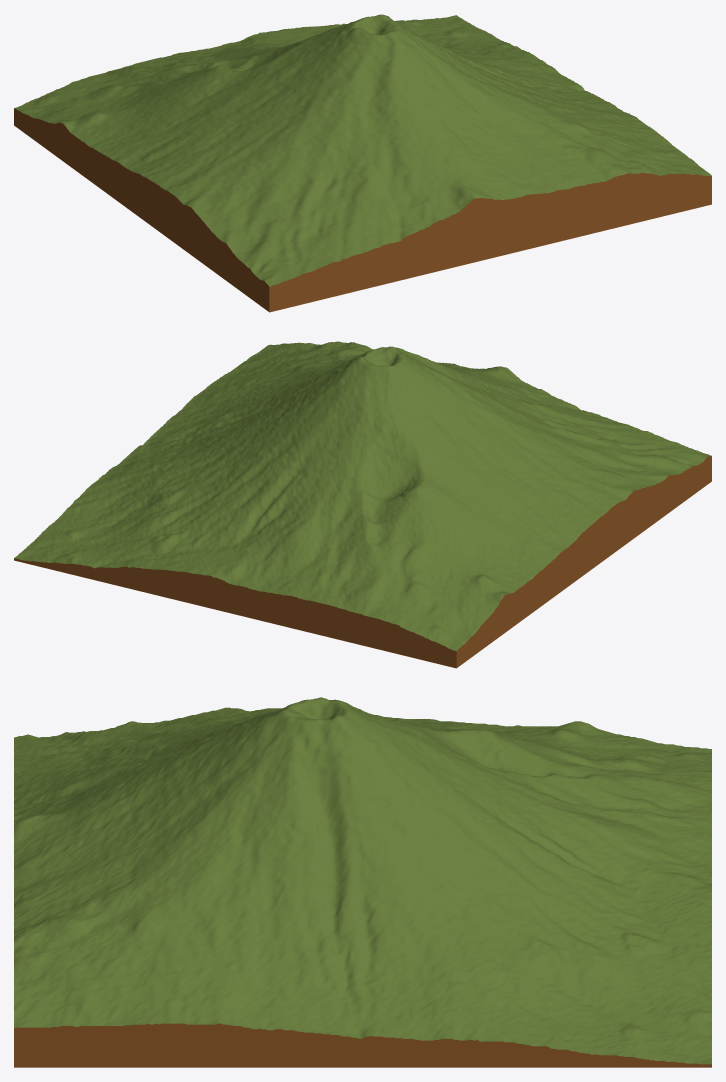
The model's file is mont fuji.fbx.
3 views of the same model, one above another, from view 1: azimuth 30°, elevation 25°; view 2: azimuth 150°, elevation 25°; view 3: azimuth 270°, elevation 25° (orthographic). The views are drawn at different scales.
Visible parts, largest first — view 1: ground_merged_merged; view 2: ground_merged_merged; view 3: ground_merged_merged.
Boxes of the visible parts, left/top/right/bottom form: ground_merged_merged: left=14, top=14, right=711, bottom=312; ground_merged_merged: left=14, top=341, right=711, bottom=668; ground_merged_merged: left=14, top=697, right=711, bottom=1067.
Bounding box in the file's own units: 495 × 165 × 495.
